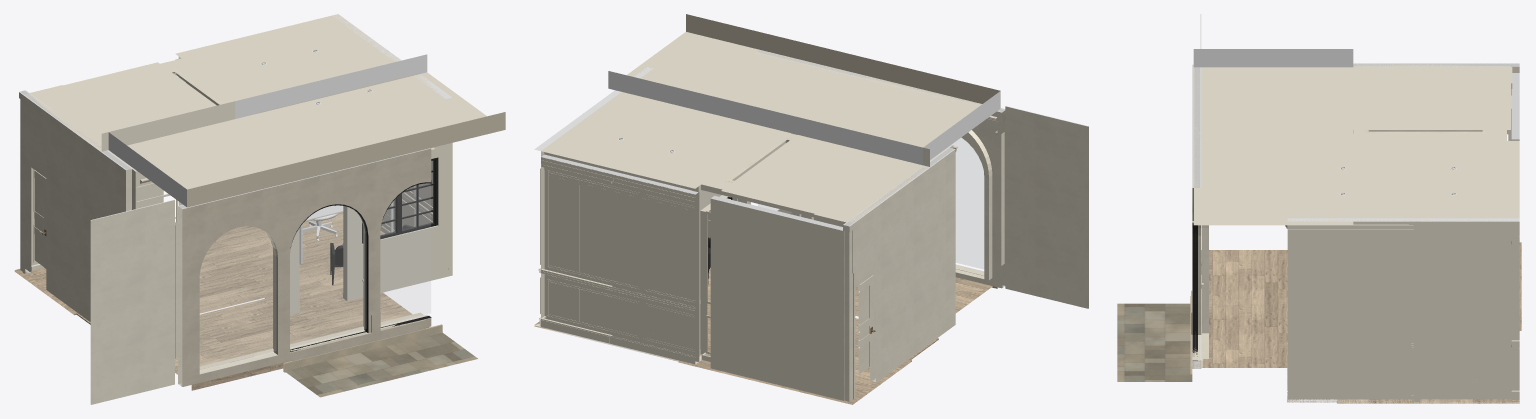
File: office-east-bc101aa9f22c.glb
3 views of the same model, side by side, from view 1: azimuth 30°, elevation 25°; view 2: azimuth 150°, elevation 25°; view 3: azimuth 270°, elevation 25° (orthographic). The views are drawn at different scales.
Visible parts, largest first — view 1: office-east-look-dbd60ee5c3733ed6, office-east-look-c9e78b9ec1bb39cd, office-east-look-d5a4a1b5d3594c04, office-east-look-6a051330000fbca1, office-east-look-2575515a05775d9e, office-east-2575515a05775d9e, office-east-look-38561c12898e4d43, office-east-look-c02a36d0521470a9, office-east-look-c374268555806af8, office-east-7dc307bfa7ee071d, office-east-look-5cbcc744e6f960f3, office-east-look-982408871810a50e (+17 smaller); view 2: office-east-look-dbd60ee5c3733ed6, office-east-look-19647d6da46c2b80, office-east-19647d6da46c2b80, office-east-look-6a051330000fbca1, office-east-look-d5a4a1b5d3594c04, office-east-2575515a05775d9e, office-east-look-2575515a05775d9e, office-east-look-38561c12898e4d43, office-east-7b11e78295c2e11d, office-east-look-c9e78b9ec1bb39cd, office-east-look-0d8abb8bf9b53894, office-east-dbd60ee5c3733ed6 (+17 smaller); view 3: office-east-6a1144f4e43410bb, office-east-look-dbd60ee5c3733ed6, office-east-2575515a05775d9e, office-east-look-2575515a05775d9e, office-east-look-c374268555806af8, office-east-look-982408871810a50e, office-east-dbd60ee5c3733ed6, office-east-7dc307bfa7ee071d, office-east-look-c9e78b9ec1bb39cd, office-east-look-0d8abb8bf9b53894, office-east-19647d6da46c2b80, office-east-07b6babc03834d5e (+17 smaller).
Part boxes in pixels (x1,y1,x2,y2): office-east-look-dbd60ee5c3733ed6: (108,54,505,207); office-east-look-c9e78b9ec1bb39cd: (178,148,431,386); office-east-look-d5a4a1b5d3594c04: (90,199,174,404); office-east-look-6a051330000fbca1: (19,90,136,321); office-east-look-2575515a05775d9e: (24,62,235,151); office-east-2575515a05775d9e: (175,14,420,113); office-east-look-38561c12898e4d43: (200,226,276,369); office-east-look-c02a36d0521470a9: (290,205,366,347); office-east-look-c374268555806af8: (175,292,429,390); office-east-7dc307bfa7ee071d: (293,97,445,313); office-east-look-5cbcc744e6f960f3: (380,183,430,324); office-east-look-982408871810a50e: (283,332,477,397); office-east-look-dbd60ee5c3733ed6: (608,14,1000,165); office-east-look-19647d6da46c2b80: (710,195,842,400); office-east-19647d6da46c2b80: (541,154,699,364); office-east-look-6a051330000fbca1: (843,144,955,401); office-east-look-d5a4a1b5d3594c04: (1005,106,1088,308); office-east-2575515a05775d9e: (541,92,771,188); office-east-look-2575515a05775d9e: (721,135,929,222); office-east-look-38561c12898e4d43: (952,138,983,269); office-east-7b11e78295c2e11d: (692,110,808,361); office-east-look-c9e78b9ec1bb39cd: (756,50,1005,288); office-east-look-0d8abb8bf9b53894: (701,129,951,226); office-east-dbd60ee5c3733ed6: (615,67,807,129); office-east-6a1144f4e43410bb: (1287,218,1519,402); office-east-look-dbd60ee5c3733ed6: (1193,49,1353,225); office-east-2575515a05775d9e: (1353,141,1519,221); office-east-look-2575515a05775d9e: (1353,63,1510,129); office-east-look-c374268555806af8: (1192,250,1287,367); office-east-look-982408871810a50e: (1117,303,1192,381); office-east-dbd60ee5c3733ed6: (1287,141,1353,221); office-east-7dc307bfa7ee071d: (1287,144,1295,399); office-east-look-c9e78b9ec1bb39cd: (1192,64,1201,368); office-east-look-0d8abb8bf9b53894: (1353,67,1512,140); office-east-19647d6da46c2b80: (1511,224,1519,390); office-east-07b6babc03834d5e: (1295,394,1511,399).
Bounding box in the file's own units: 7.25 × 3.46 × 6.07.
23 materials, 7 textured.
